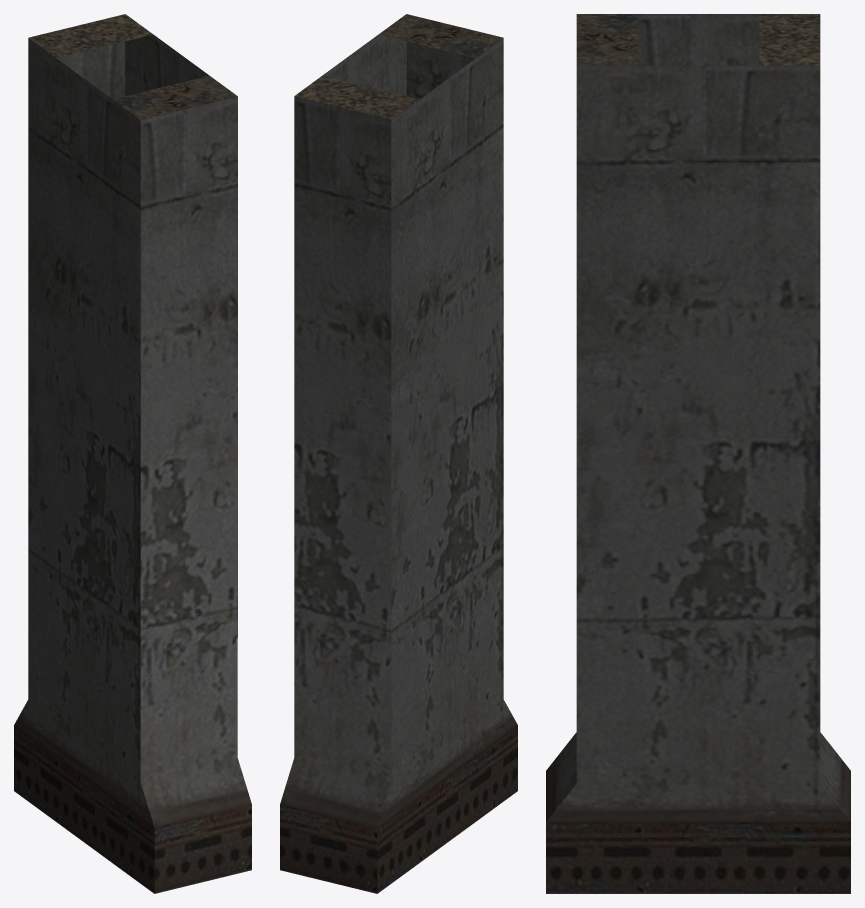
The model's file is pillar_rtx_2.obj.
3 renders of one model, left to right at view 1: azimuth 30°, elevation 25°; view 2: azimuth 150°, elevation 25°; view 3: azimuth 270°, elevation 25°, orthographic. The views are drawn at different scales.
Visible parts, largest first — view 1: pillar_rtx_2; view 2: pillar_rtx_2; view 3: pillar_rtx_2.
Boxes of the visible parts, x1=… form: pillar_rtx_2: x1=14, y1=14, x2=251, y2=893; pillar_rtx_2: x1=280, y1=14, x2=517, y2=893; pillar_rtx_2: x1=546, y1=14, x2=850, y2=893.
Bounding box in the file's own units: 0.4 × 3 × 1.
